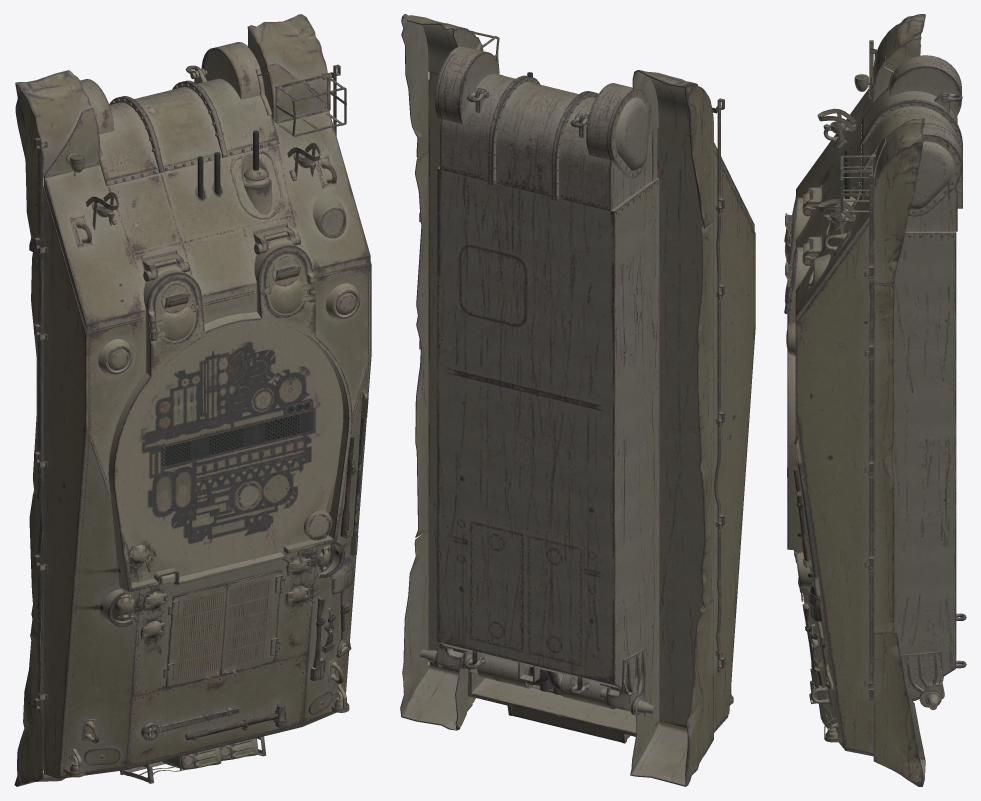
Rendered from Hull.glb.
3 views of the same model, side by side, from view 1: azimuth 30°, elevation 25°; view 2: azimuth 150°, elevation 25°; view 3: azimuth 270°, elevation 25° (orthographic). The views are drawn at different scales.
Visible parts, largest first — view 1: set_0_group_0; view 2: set_0_group_0; view 3: set_0_group_0.
Boxes of the visible parts, <box> form: set_0_group_0: <box>14,14,371,786</box>; set_0_group_0: <box>400,14,755,786</box>; set_0_group_0: <box>784,14,966,786</box>.
Size of the model in its own units: 2.82 by 6.26 by 1.6.
1 material, 1 textured.
